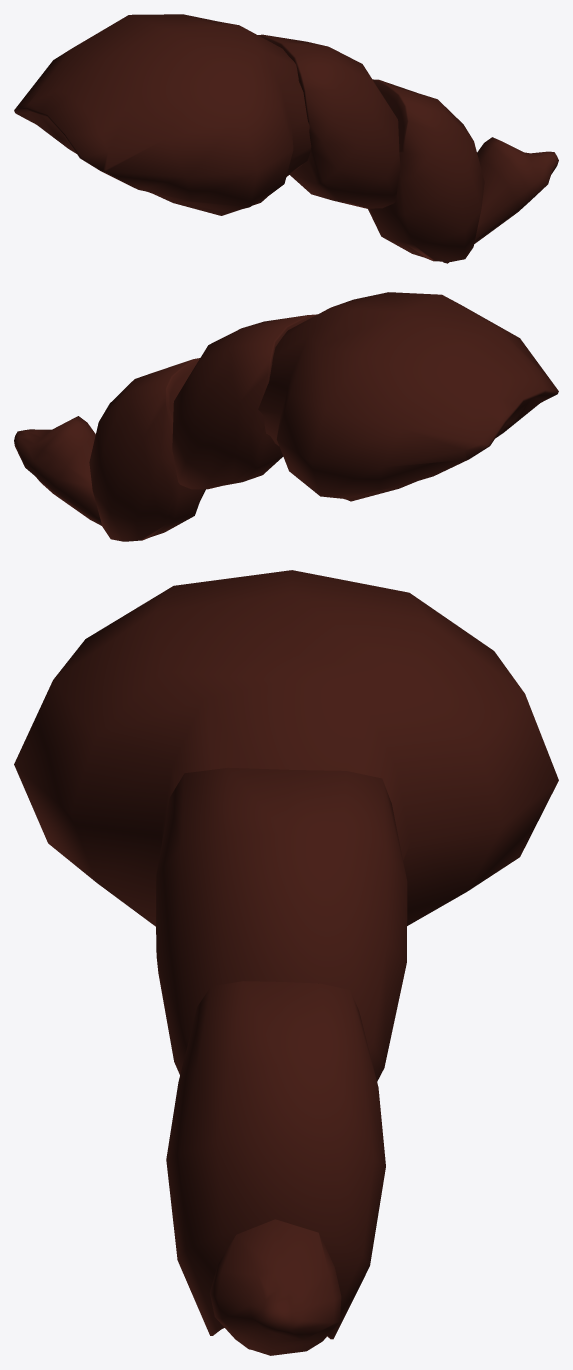
The model's file is body.dae.
3 views of the same model, one above another, from view 1: azimuth 30°, elevation 25°; view 2: azimuth 150°, elevation 25°; view 3: azimuth 270°, elevation 25° (orthographic). The views are drawn at different scales.
Parts seen in each view (by area): view 1: Mesh_0.009; view 2: Mesh_0.009; view 3: Mesh_0.009.
Part boxes in pixels (x1=…): Mesh_0.009: x1=14, y1=14, x2=558, y2=263; Mesh_0.009: x1=14, y1=292, x2=558, y2=541; Mesh_0.009: x1=14, y1=570, x2=558, y2=1355.
Bounding box in the file's own units: 0.7063 × 0.3681 × 0.3877.
